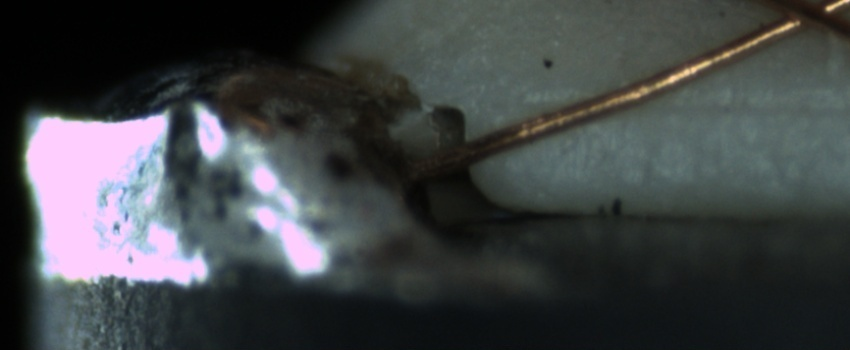CL: (744, 1, 850, 41)
DL: (551, 70, 850, 138)
